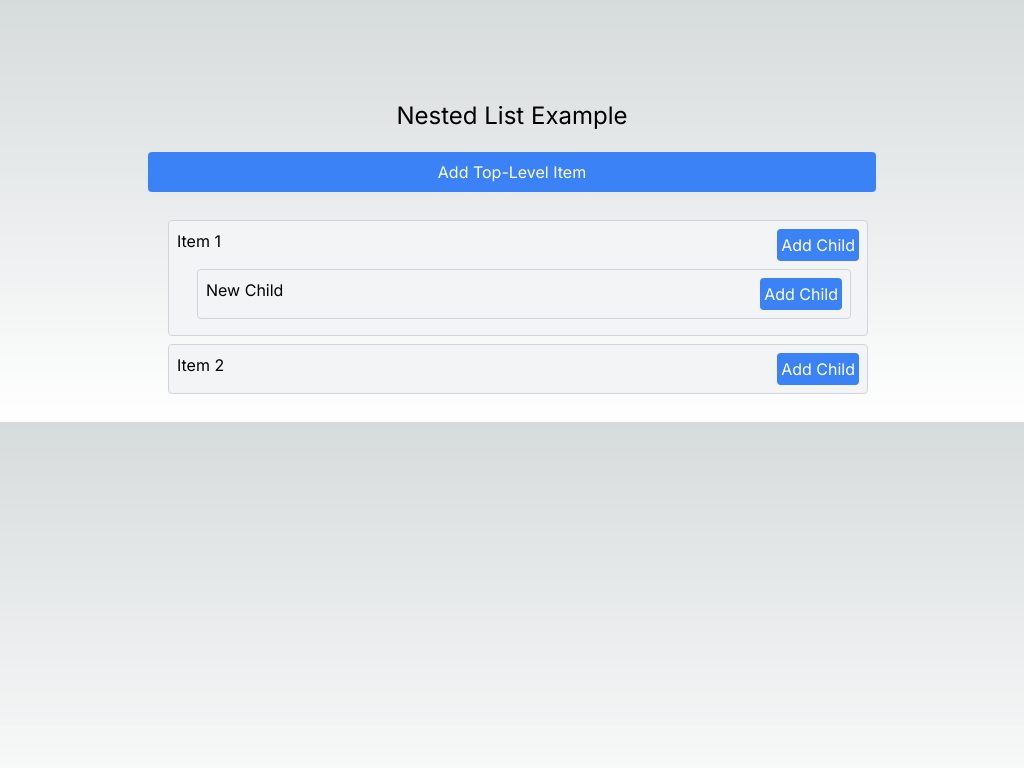
NestedList Component › edits an item name
This screenshot has width=1024, height=768.
Click the text "Item 1": (199, 245) [177, 229, 221, 261]
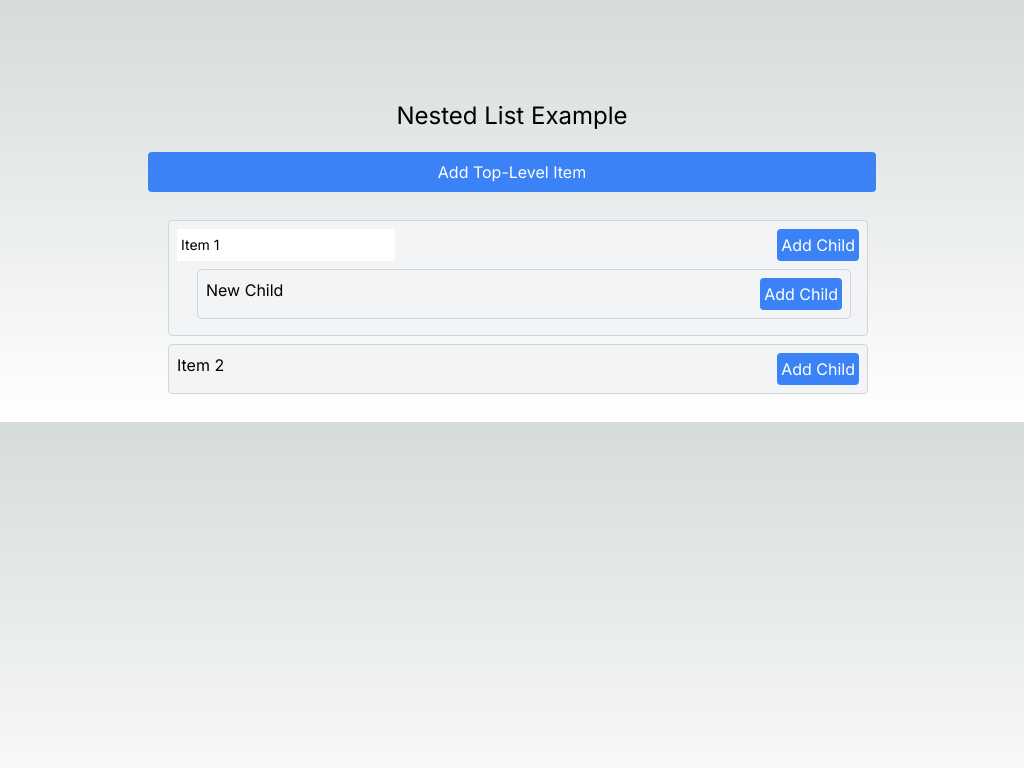
Replace the text in the field showing "Item 1" with "Updated Item 1": (286, 245) [177, 229, 395, 261]
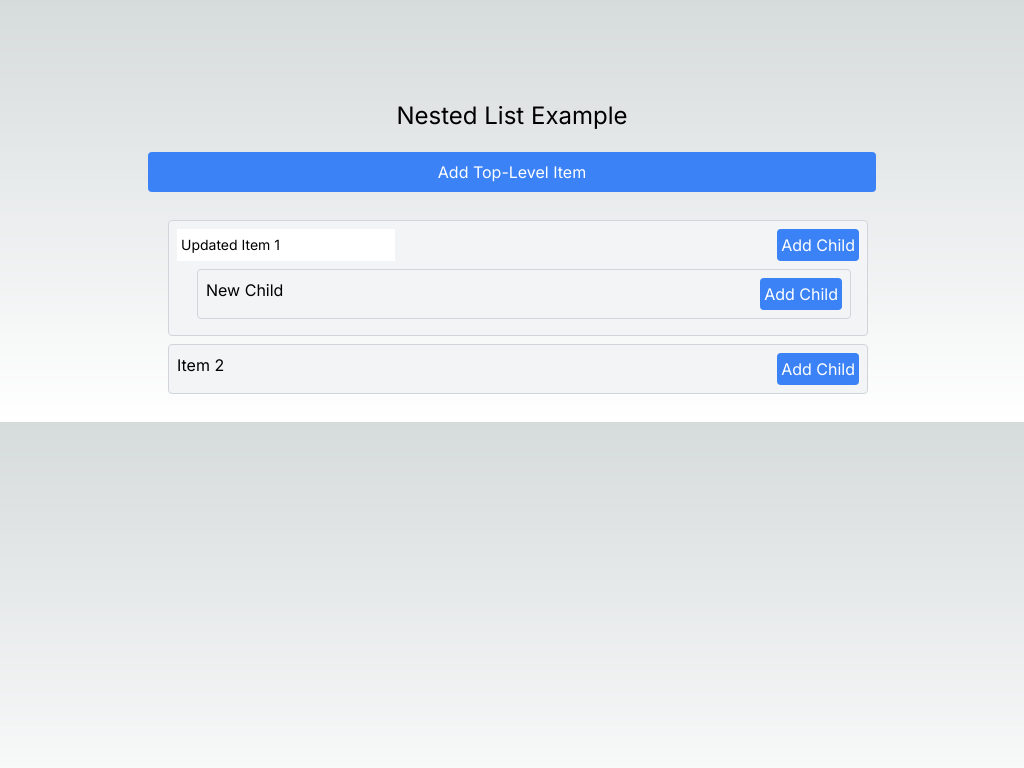
Leave the field showing "Item 1", box [177, 229, 395, 261]
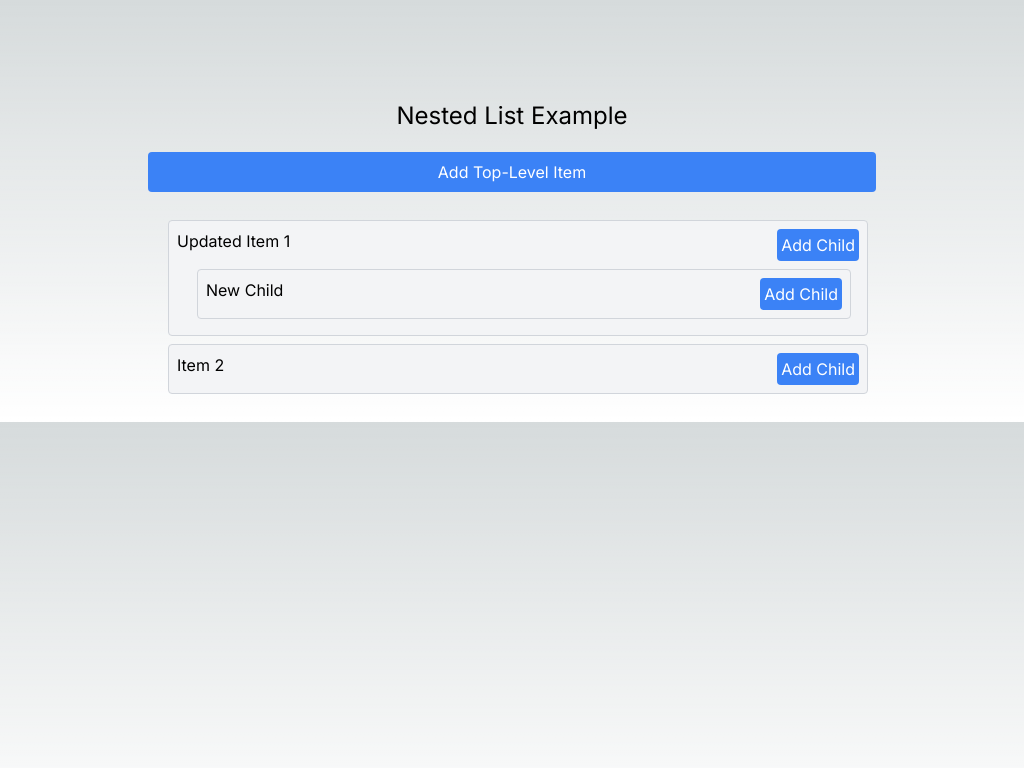
Expected: the text "Updated Item 1" is shown, [177, 229, 290, 261]
